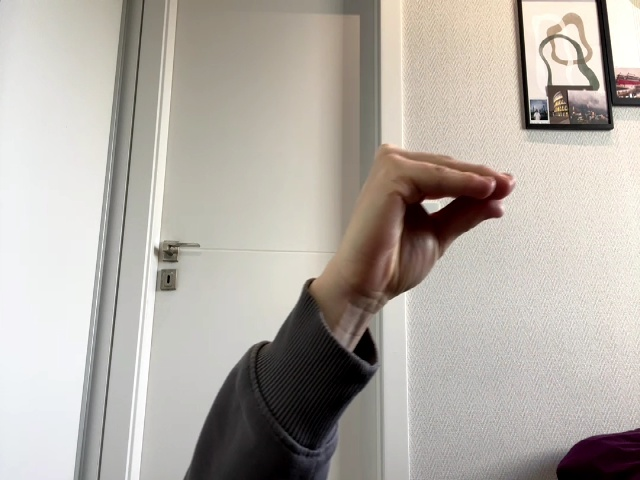E: (336, 144, 516, 338)
